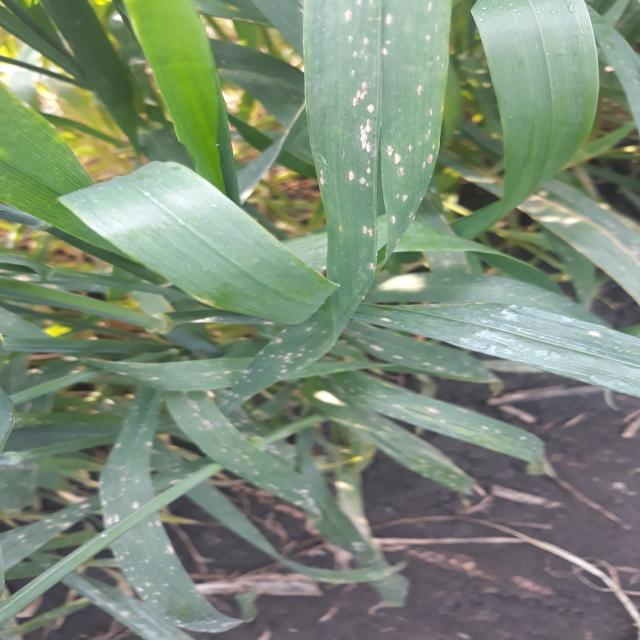powder_mildew: (290, 0, 465, 315), (53, 402, 255, 640), (315, 362, 563, 492), (158, 388, 340, 521), (412, 304, 632, 409), (247, 504, 450, 606), (0, 468, 83, 640), (72, 344, 271, 403), (231, 314, 395, 360)
